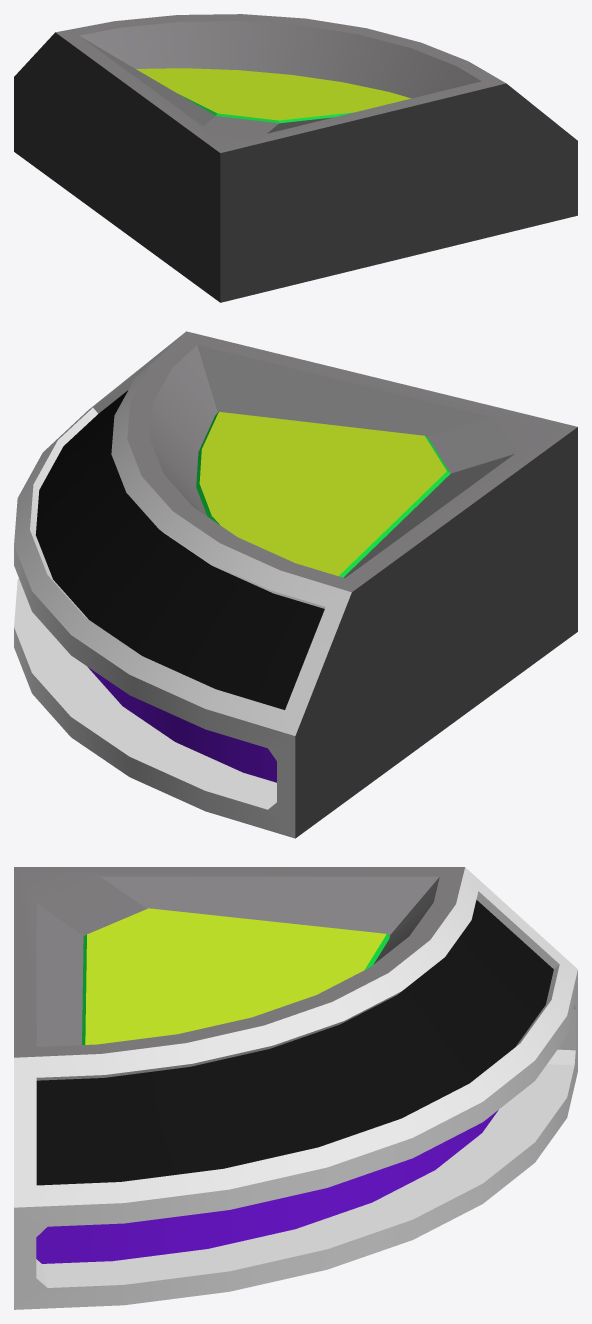
Rendered from PlatformBorder00_2.5Corner.fbx.
3 renders of one model, top to bottom at view 1: azimuth 30°, elevation 25°; view 2: azimuth 150°, elevation 25°; view 3: azimuth 270°, elevation 25°, orthographic. The views are drawn at different scales.
Visible parts, largest first — view 1: PlatformBorder00_2.5Corner; view 2: PlatformBorder00_2.5Corner; view 3: PlatformBorder00_2.5Corner.
Boxes of the visible parts, left/top/right/bottom form: PlatformBorder00_2.5Corner: left=14, top=14, right=577, bottom=302; PlatformBorder00_2.5Corner: left=14, top=331, right=577, bottom=838; PlatformBorder00_2.5Corner: left=14, top=867, right=577, bottom=1309.
Bounding box in the file's own units: 250 × 100 × 250.
